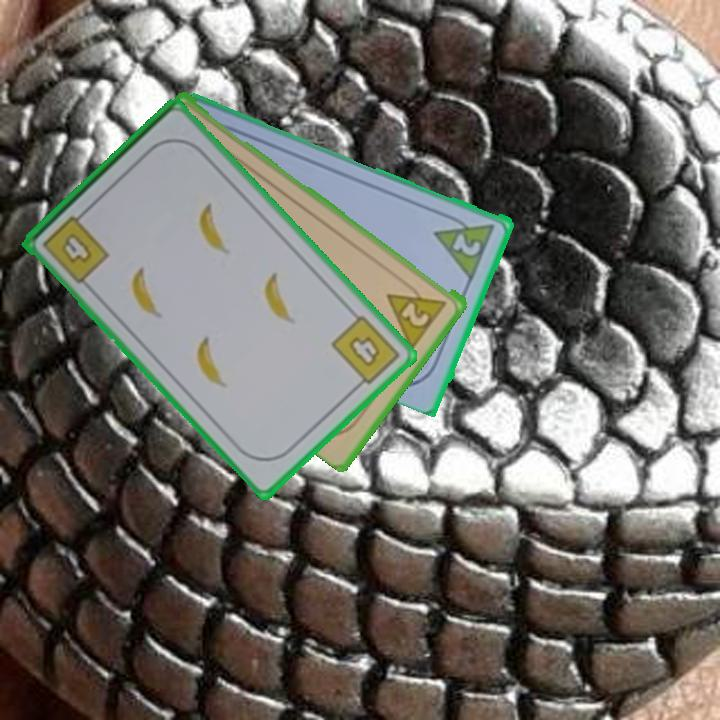2p: (383, 276, 451, 351), (431, 208, 499, 281)
4b: (327, 311, 403, 393), (38, 206, 113, 287)
